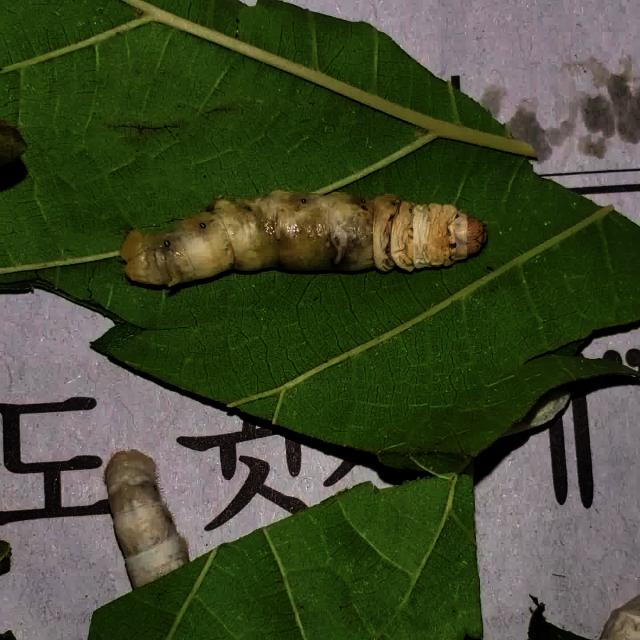Grasserie: (105, 186, 492, 300)
